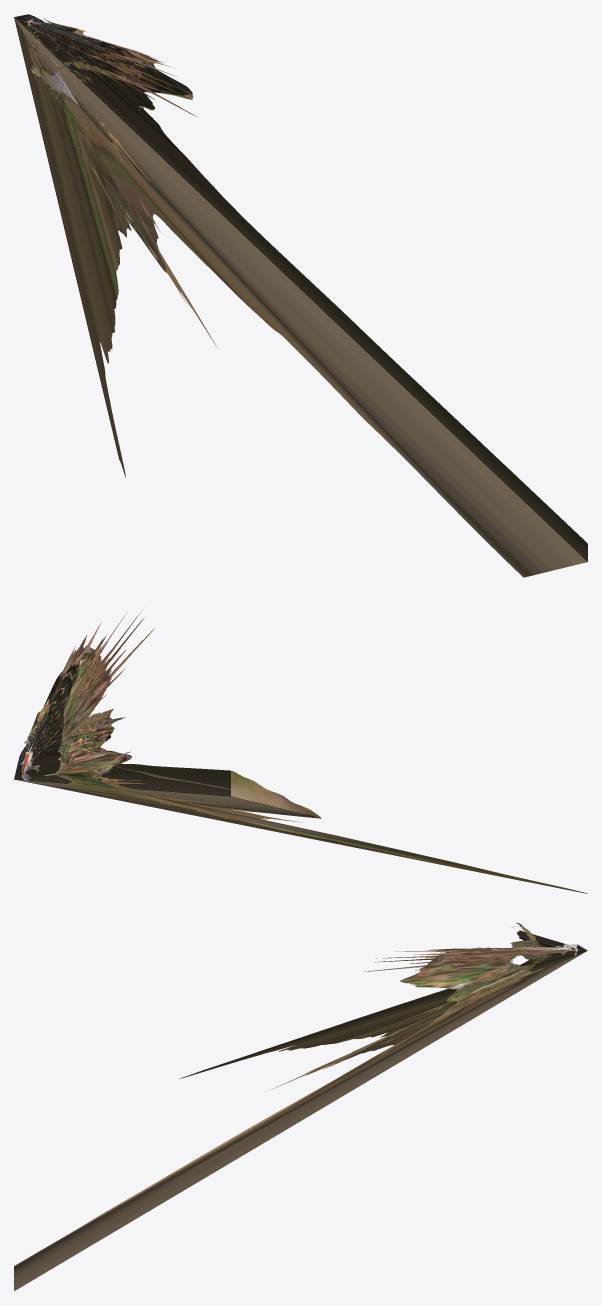
Rendered from sh-unsplash_nvpxqqsqoam.glb.
3 views of the same model, one above another, from view 1: azimuth 30°, elevation 25°; view 2: azimuth 150°, elevation 25°; view 3: azimuth 270°, elevation 25° (orthographic). The views are drawn at different scales.
Parts seen in each view (by area): view 1: mesh0; view 2: mesh0; view 3: mesh0.
Part boxes in pixels (box(x1,y1,x2,y2)): mesh0: box(14, 14, 587, 577); mesh0: box(14, 610, 587, 893); mesh0: box(14, 922, 587, 1291).
Bounding box in the file's own units: 11.35 × 10.7 × 20.
1 material, 1 textured.
